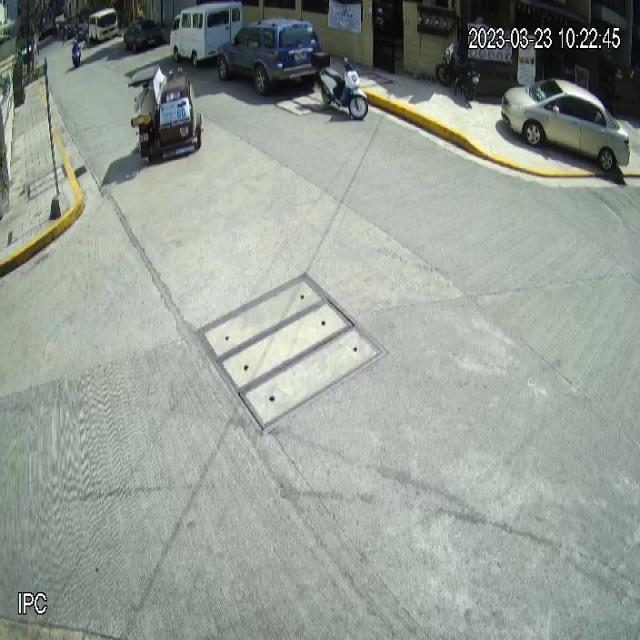Car: (501, 77, 632, 172), (216, 18, 322, 96)
Motorcycle: (311, 51, 370, 120)
Tricycle: (129, 63, 204, 166)
Van: (170, 1, 244, 70)
